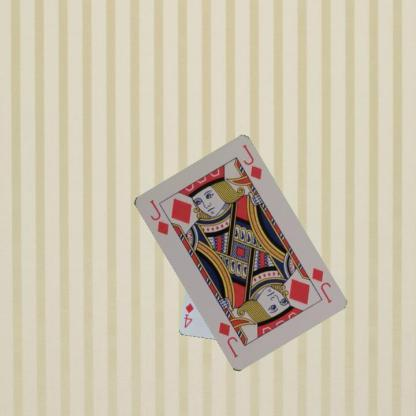Jd: (308, 264, 333, 304), (146, 196, 170, 236)
